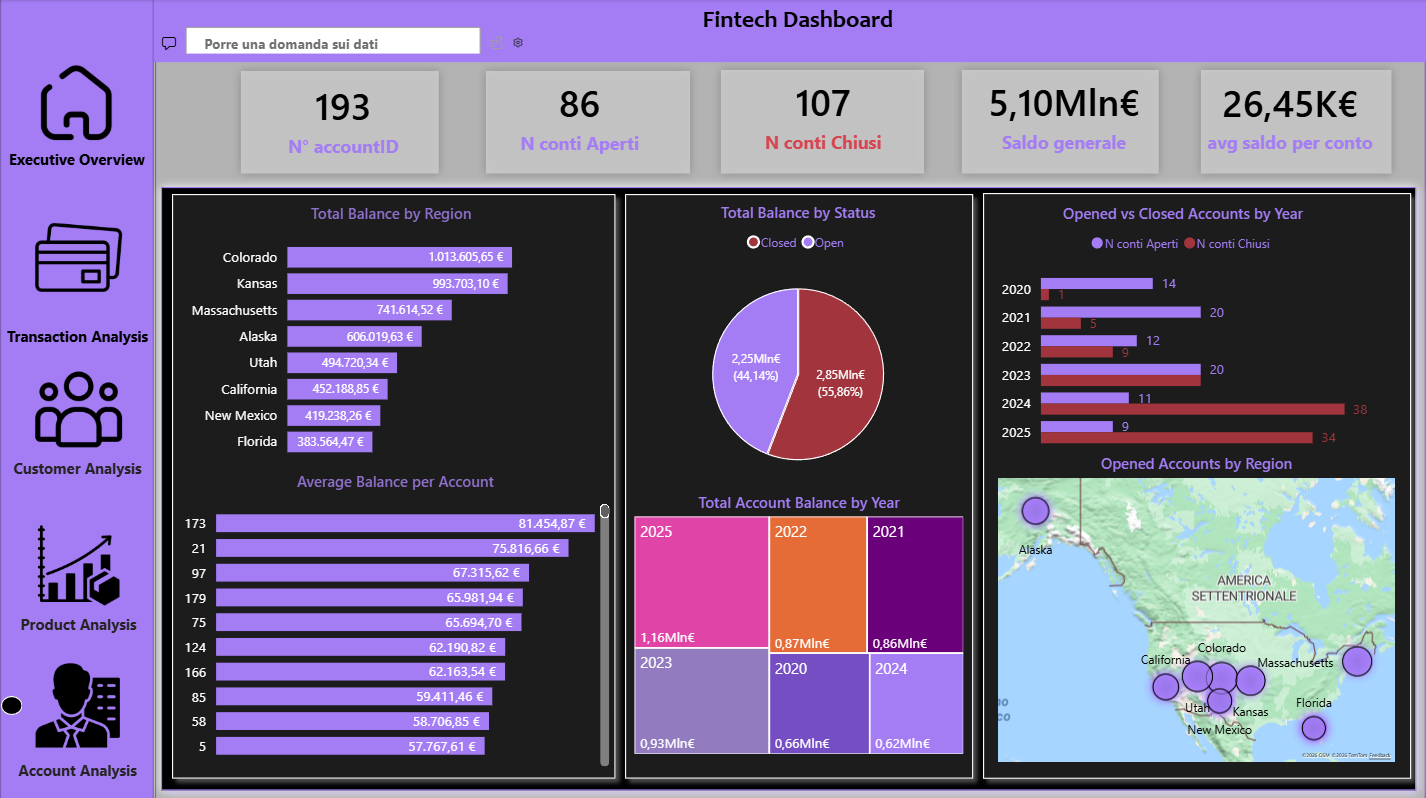

The dashboard page shown, as its layout file describes it:
{"tool":"powerbi","page":{"name":"Account Analysis","canvas":[1280,720],"ordinal":4},"visuals":[{"type":"shape","box":[139.1,0,1140.9,719.2],"z":0},{"type":"shape","box":[208.6,56.4,193.6,108.1],"z":1000},{"type":"shape","box":[0,0,138.1,719.2],"z":2000},{"type":"shape","box":[138.1,0,1141.9,56.7],"z":3000},{"type":"card","fields":{"Values":["Misure.N° accountID"]},"box":[233.1,65.8,149.4,82.7],"z":4000},{"type":"shape","box":[428.5,56.4,199.2,108.1],"z":5000},{"type":"shape","box":[1070.4,55.4,187,109],"z":6000},{"type":"shape","box":[639.1,55.4,198.3,109],"z":7000},{"type":"card","fields":{"Values":["Misure.avg saldo per conto"]},"box":[1058.4,49.6,199.4,108.7],"z":8000},{"type":"card","fields":{"Values":["Misure.N conti Chiusi"]},"box":[656,63,165.4,80.8],"z":9000},{"type":"shape","box":[855.2,55.4,192.7,109],"z":10000},{"type":"card","fields":{"Values":["Misure.N conti Aperti"]},"box":[414.2,49.2,213,109.2],"z":11000},{"type":"card","fields":{"Values":["Misure.Saldo generale"]},"box":[855.2,63,199.2,80.8],"z":12000},{"type":"shape","box":[135.2,159.5,1144.8,559.7],"z":13000},{"type":"textbox","box":[619.7,0,193.7,49.2],"z":14000},{"type":"qnaVisual","box":[135.9,0,344.6,49.2],"z":15000},{"type":"shape","box":[1.1,626.1,19.3,17.1],"z":16000},{"type":"textbox","box":[0,130.6,138.1,35.3],"z":17000},{"type":"textbox","box":[0,289,139.1,31],"z":18000},{"type":"textbox","box":[0,407.8,139.1,31],"z":19000},{"type":"image","box":[35.3,55.7,67.4,74.9],"z":20000},{"type":"image","box":[30,329.6,81.3,78.1],"z":21000},{"type":"image","box":[30,469.8,81.3,78.1],"z":22000},{"type":"image","box":[28.9,595.1,81.3,78.1],"z":23000},{"type":"image","box":[30,192.6,81.3,78.1],"z":24000},{"type":"textbox","box":[1.1,548,139.1,31],"z":25000},{"type":"textbox","box":[0,678.5,139.1,31],"z":26000},{"type":"lineClusteredColumnComboChart","title":"Number of Opened and Closed Accounts by Year","fields":{"Category":["calendario.Date.Variazione.Gerarchia data.Anno"],"Y":["Misure.N conti Aperti","Misure.N conti Chiusi"]},"box":[202.8,186.9,360.1,234.5],"z":27000},{"type":"shape","box":[145.7,165.8,416.1,542.8],"z":28000},{"type":"barChart","title":"Total Balance by Region","fields":{"Category":["DimCustomer.Region"],"Y":["Misure.Saldo generale"]},"box":[158.4,182.7,386.5,238.7],"z":29000},{"type":"barChart","title":"Average Balance per Account","fields":{"Category":["FactTransaction.AccountID"],"Y":["Misure.avg saldo per conto"]},"box":[158.4,423.5,393.9,270.4],"z":30000},{"type":"shape","box":[873.4,164.8,402.4,543.9],"z":31000},{"type":"azureMap","title":"Opened Accounts by Region","fields":{"Category":["DimCustomer.Region"],"Size":["Misure.N conti Aperti"]},"box":[890.5,407.4,367.4,282.1],"z":32000},{"type":"clusteredBarChart","title":"Opened vs Closed Accounts by Year","fields":{"Category":["calendario.Date.Variazione.Gerarchia data.Anno"],"Y":["Misure.N conti Aperti","Misure.N conti Chiusi"]},"box":[891.4,182.7,341.1,231.3],"z":33000},{"type":"shape","box":[552.3,165.8,330.6,542.8],"z":33500},{"type":"pieChart","title":"Total Balance by Status","fields":{"Category":["DimAccount.Status"],"Y":["Misure.Saldo generale"]},"box":[562.9,182.3,307.3,265],"z":34000},{"type":"treemap","title":"Total Account Balance by Year","fields":{"Group":["calendario.Date.Variazione.Gerarchia data.Anno"],"Values":["Misure.Saldo generale"]},"box":[565.1,442.6,305.4,240.2],"z":36000}]}

Visuals, with their boxes on the page's 1280x720 design canvas (x1, y1, x2, y2). These are canvas units, not pixel positions in the 1426x798 screenshot, which may show the page scaled, cropped or inside an application window:
shape: region(139, 0, 1280, 719)
shape: region(209, 56, 402, 164)
shape: region(0, 0, 138, 719)
shape: region(138, 0, 1280, 57)
card - Misure.N° accountID: region(233, 66, 382, 148)
shape: region(428, 56, 628, 164)
shape: region(1070, 55, 1257, 164)
shape: region(639, 55, 837, 164)
card - Misure.avg saldo per conto: region(1058, 50, 1258, 158)
card - Misure.N conti Chiusi: region(656, 63, 821, 144)
shape: region(855, 55, 1048, 164)
card - Misure.N conti Aperti: region(414, 49, 627, 158)
card - Misure.Saldo generale: region(855, 63, 1054, 144)
shape: region(135, 160, 1280, 719)
textbox: region(620, 0, 813, 49)
qnaVisual: region(136, 0, 480, 49)
shape: region(1, 626, 20, 643)
textbox: region(0, 131, 138, 166)
textbox: region(0, 289, 139, 320)
textbox: region(0, 408, 139, 439)
image: region(35, 56, 103, 131)
image: region(30, 330, 111, 408)
image: region(30, 470, 111, 548)
image: region(29, 595, 110, 673)
image: region(30, 193, 111, 271)
textbox: region(1, 548, 140, 579)
textbox: region(0, 678, 139, 710)
"Number of Opened and Closed Accounts by Year" lineClusteredColumnComboChart: region(203, 187, 563, 421)
shape: region(146, 166, 562, 709)
"Total Balance by Region" barChart: region(158, 183, 545, 421)
"Average Balance per Account" barChart: region(158, 424, 552, 694)
shape: region(873, 165, 1276, 709)
"Opened Accounts by Region" azureMap: region(890, 407, 1258, 690)
"Opened vs Closed Accounts by Year" clusteredBarChart: region(891, 183, 1232, 414)
shape: region(552, 166, 883, 709)
"Total Balance by Status" pieChart: region(563, 182, 870, 447)
"Total Account Balance by Year" treemap: region(565, 443, 870, 683)
